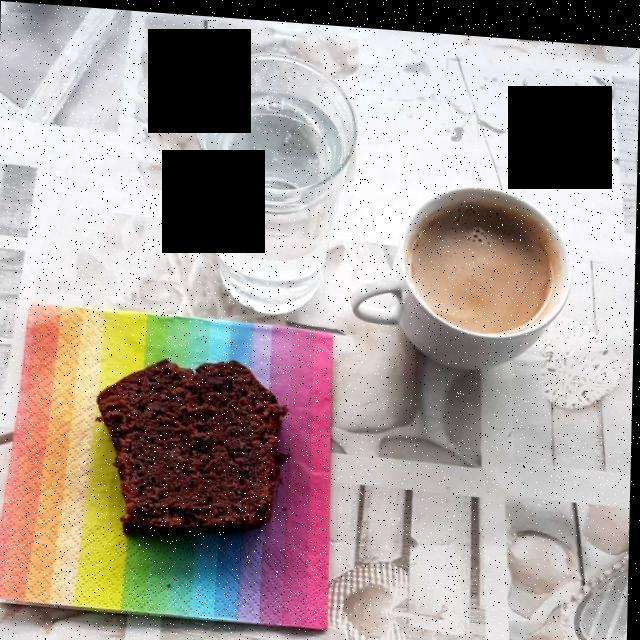cake: (105, 358, 284, 529)
coffee: (417, 202, 550, 320)
water: (210, 97, 339, 302)
